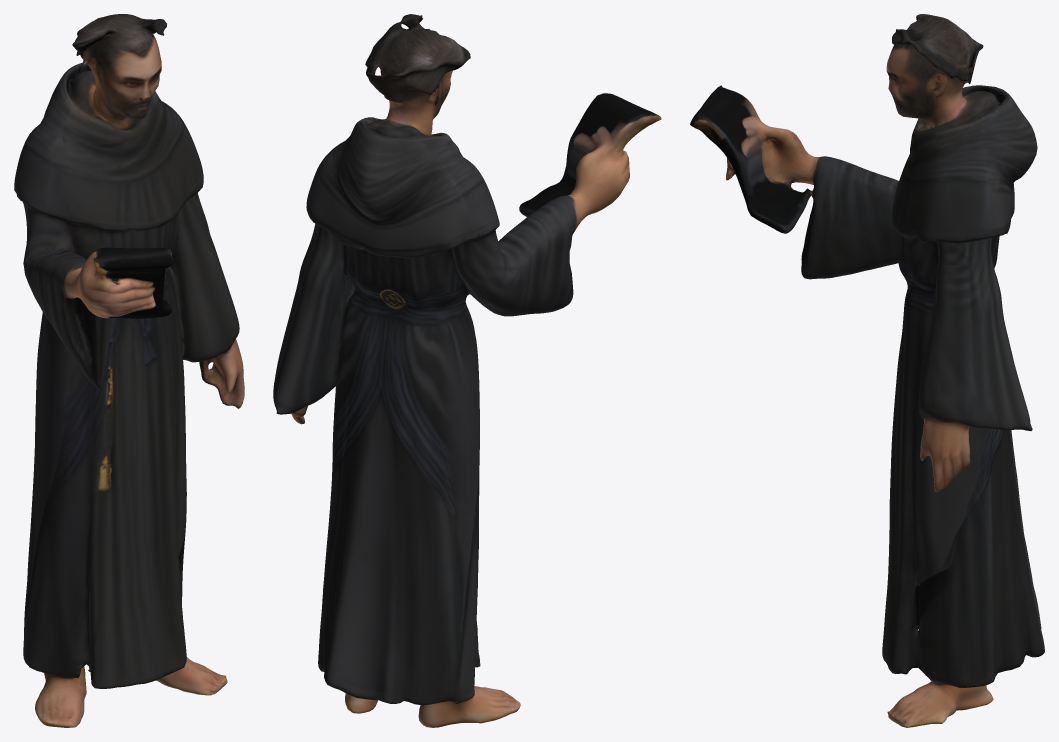
The model's file is arius.glb.
The picture shows the model from 3 angles, left to right: view 1: azimuth 30°, elevation 25°; view 2: azimuth 150°, elevation 25°; view 3: azimuth 270°, elevation 25°; orthographic projection. The views are drawn at different scales.
Bounding box in the file's own units: 0.8065 × 2 × 0.9671.
Materials: 1 (1 with a texture image).
